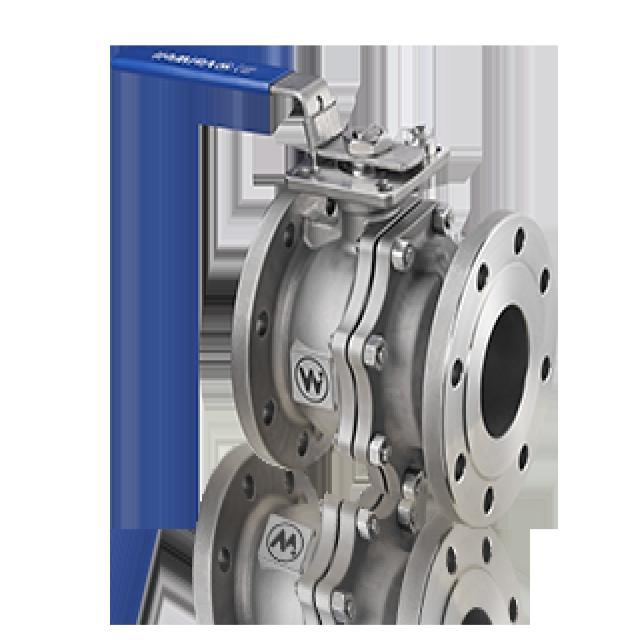Lever Handle Valve Threaded: (97, 29, 481, 209)
